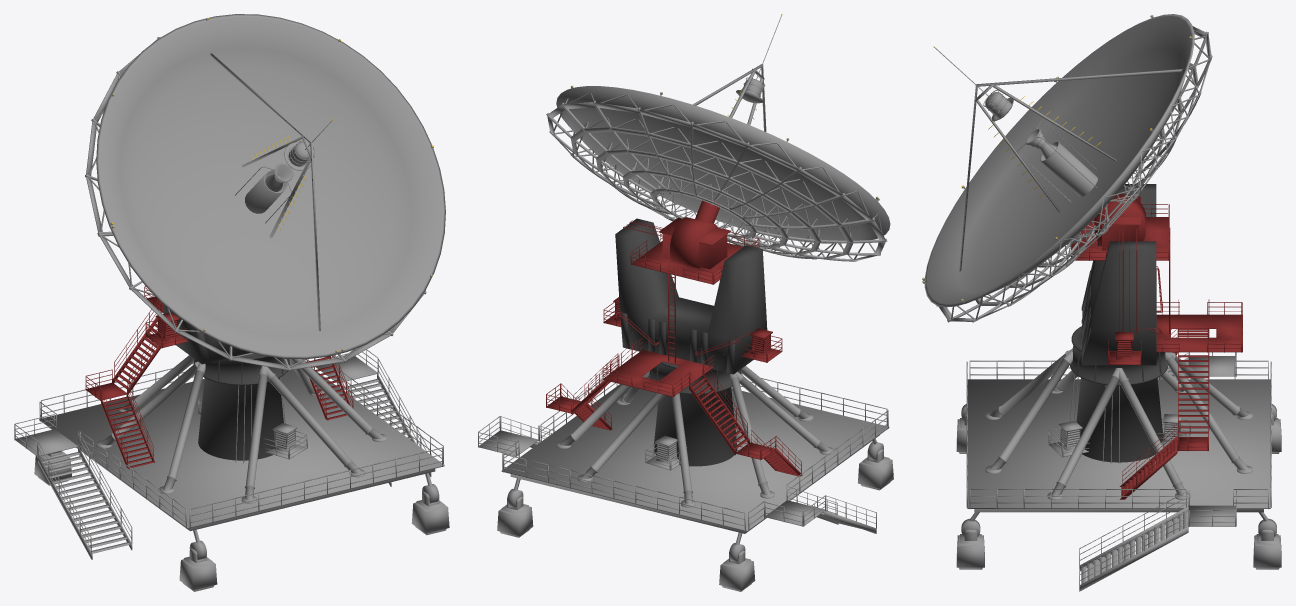
The model's file is SM_satellitedish_large 1.FBX.
3 renders of one model, left to right at view 1: azimuth 30°, elevation 25°; view 2: azimuth 150°, elevation 25°; view 3: azimuth 270°, elevation 25°, orthographic. The views are drawn at different scales.
Visible parts, largest first — view 1: Object076; view 2: Object076; view 3: Object076.
Part boxes in pixels (left/top/right/bottom): Object076: left=14, top=14, right=449, bottom=591; Object076: left=478, top=14, right=893, bottom=591; Object076: left=922, top=14, right=1281, bottom=591.
Size of the model in its own units: 15317 by 19782 by 13681.
